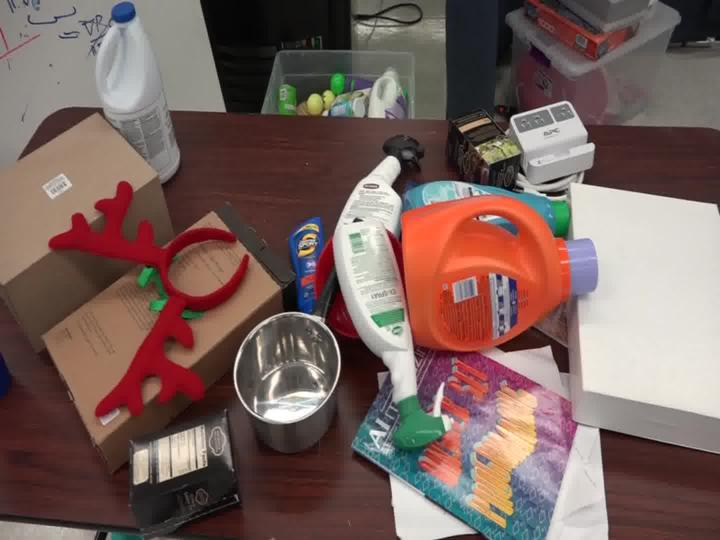tide: (377, 177, 602, 358)
